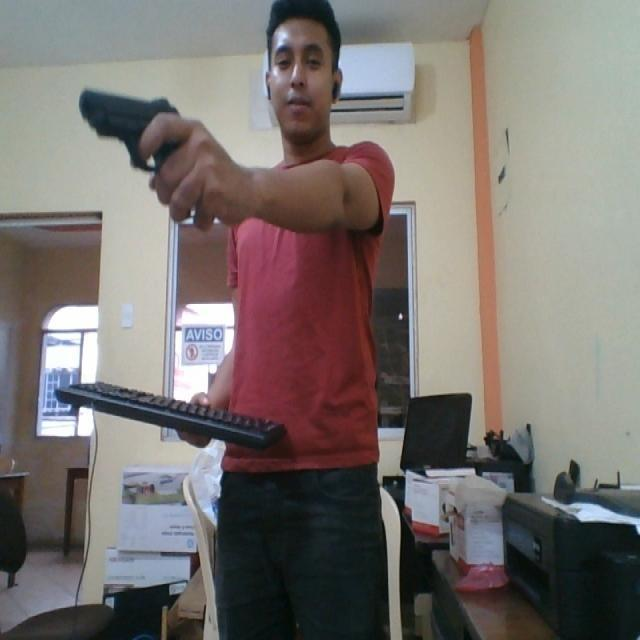weapon: (76, 85, 190, 177)
